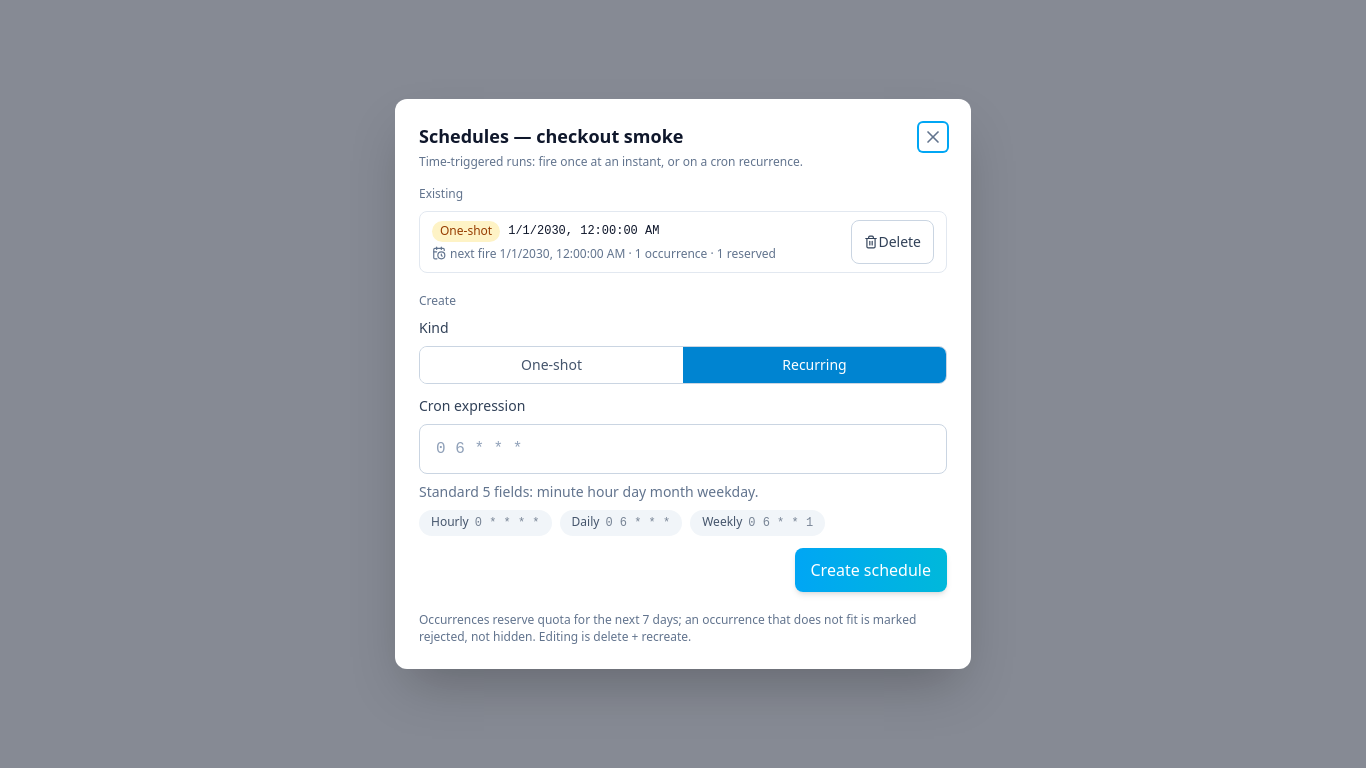
Test: ScheduleModal delete › renders a failed delete inline and keeps the row
This screenshot has width=1366, height=768.
Click the button "Delete". click: [893, 242]
box: [851,220,934,264]
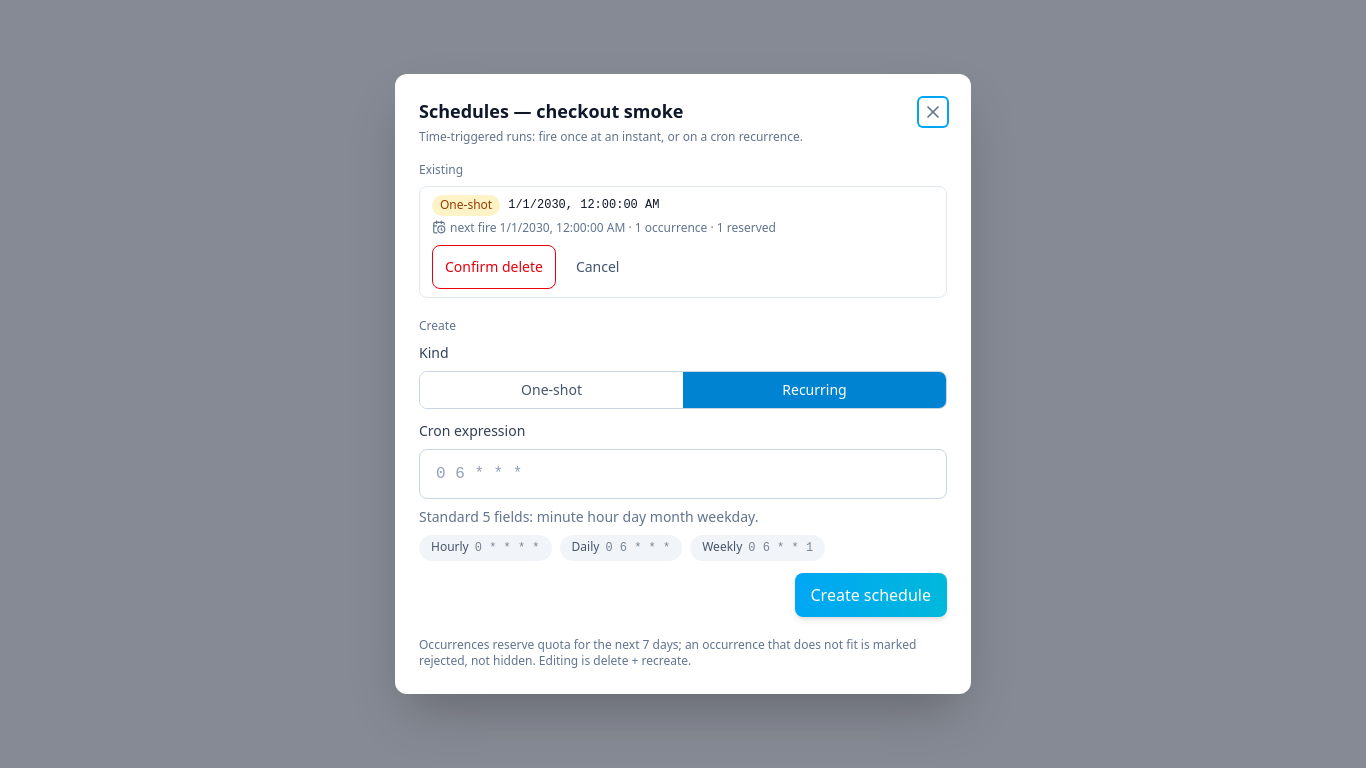
Click the button "Confirm delete". click: [494, 267]
box: [432,245,556,289]
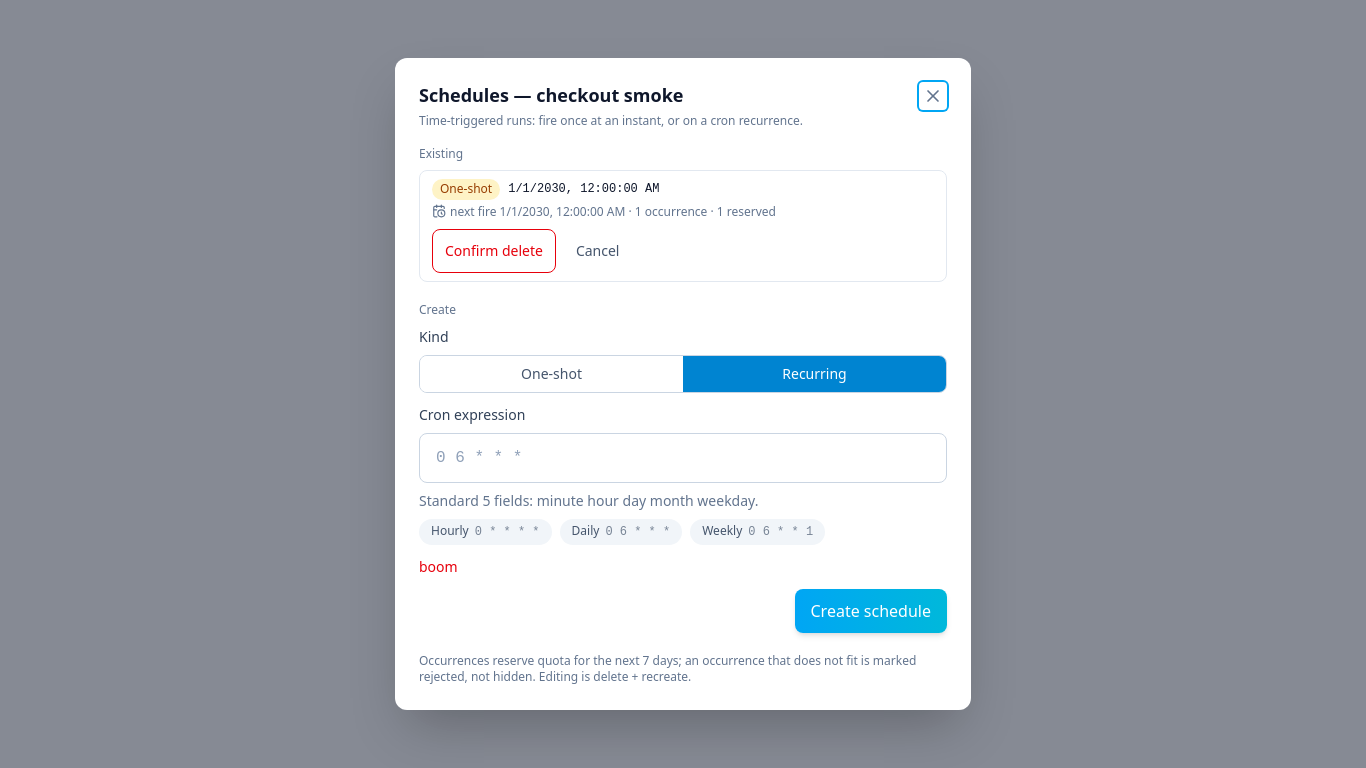
Now the text "boom" is shown, box [419,557,458,576]
